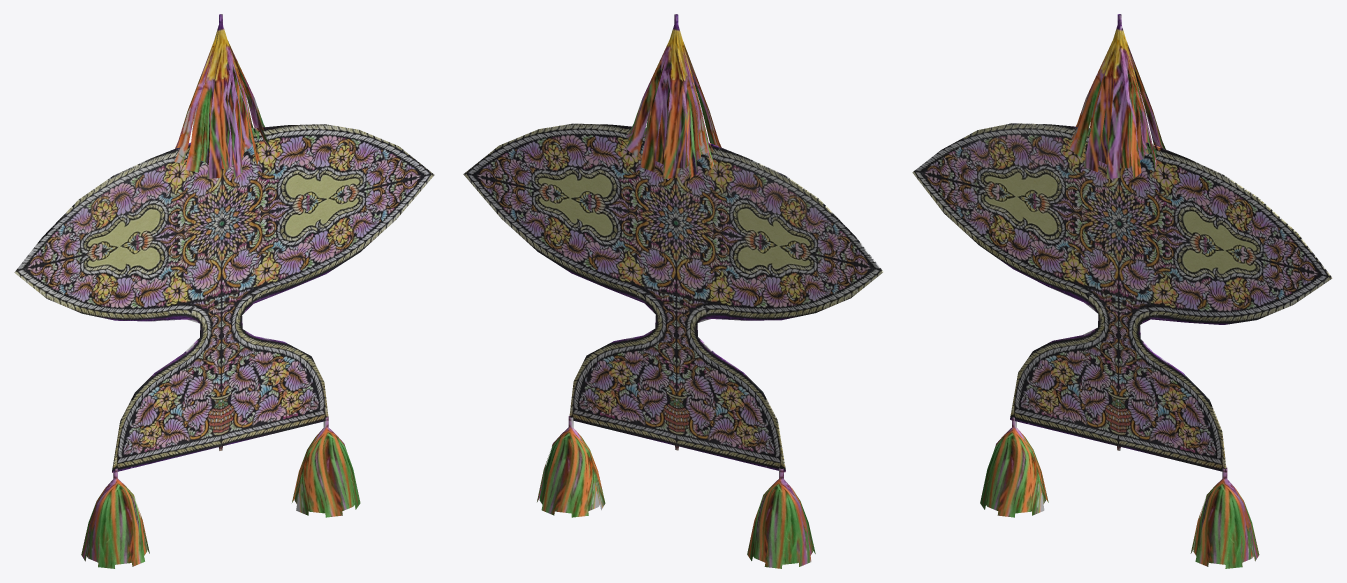
The model's file is wau_kucing.glb.
The picture shows the model from 3 angles, left to right: view 1: azimuth 30°, elevation 25°; view 2: azimuth 150°, elevation 25°; view 3: azimuth 330°, elevation 25°; orthographic projection.
Parts seen in each view (by area): view 1: Cone; view 2: Cone; view 3: Cone.
Part boxes in pixels (x1,y1,x2,y2): Cone: [14, 14, 434, 568]; Cone: [463, 14, 883, 568]; Cone: [912, 14, 1332, 568].
Size of the model in its own units: 329 by 385 by 45.59.
1 material, 1 textured.
